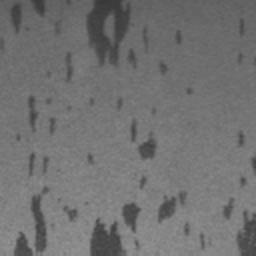Red iron sheet: (14, 93, 206, 256), (0, 0, 184, 82), (221, 131, 256, 256), (237, 18, 247, 37), (86, 152, 95, 166), (186, 84, 195, 96)
